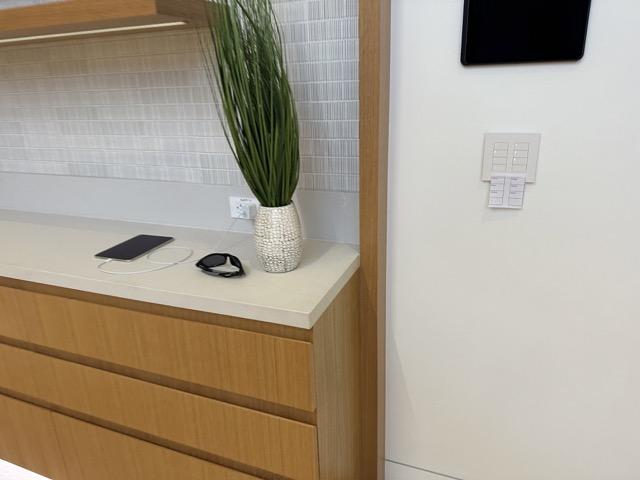Sunglasses: (193, 252, 246, 278)
